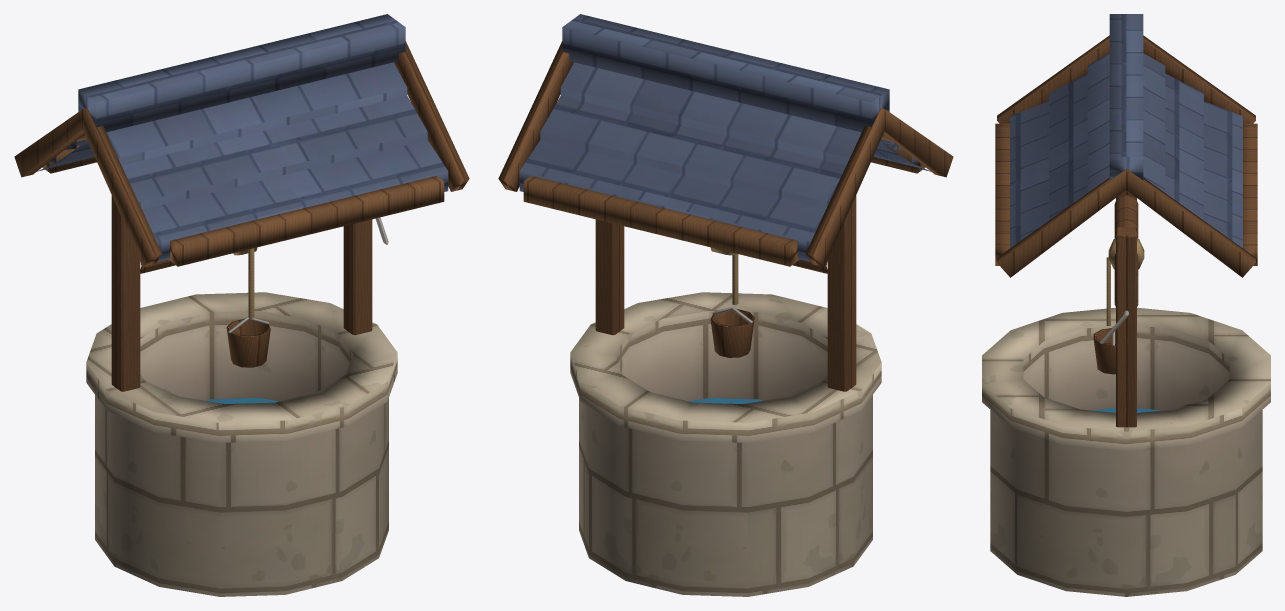
The model's file is well.glb.
3 renders of one model, left to right at view 1: azimuth 30°, elevation 25°; view 2: azimuth 150°, elevation 25°; view 3: azimuth 270°, elevation 25°, orthographic. The views are drawn at different scales.
Parts seen in each view (by area): view 1: prop.well.mesh, bucket; view 2: prop.well.mesh, bucket; view 3: prop.well.mesh, bucket.
Boxes of the visible parts, <box> form: prop.well.mesh: <box>14,14,469,596</box>; bucket: <box>226,316,270,367</box>; prop.well.mesh: <box>498,14,953,596</box>; bucket: <box>710,306,754,357</box>; prop.well.mesh: <box>982,14,1270,596</box>; bucket: <box>1093,326,1115,374</box>.
Bounding box in the file's own units: 1.65 × 2.36 × 1.36.
6 materials, 6 textured.
